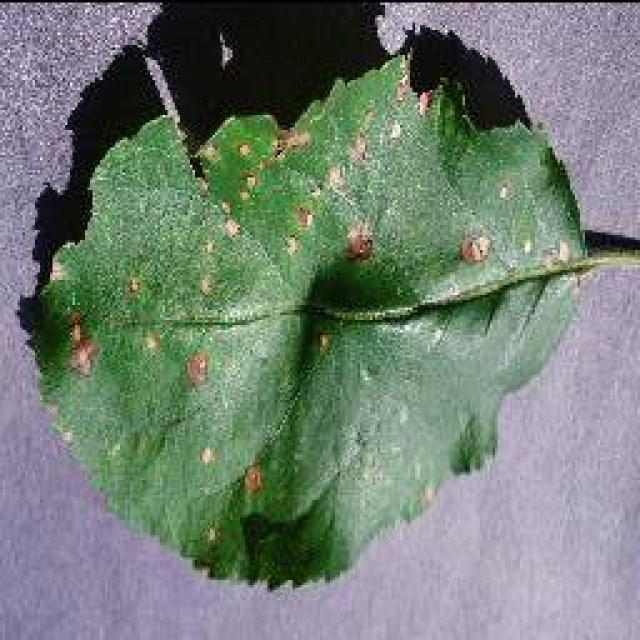Black_rot: (28, 25, 638, 593)
